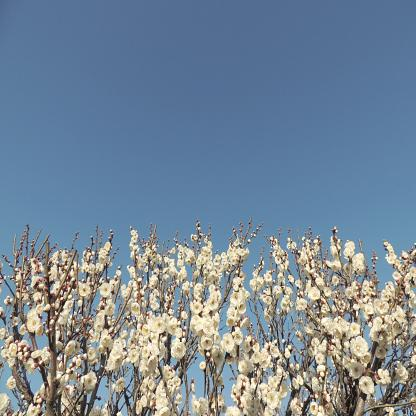Ume: (0, 215, 416, 416)
